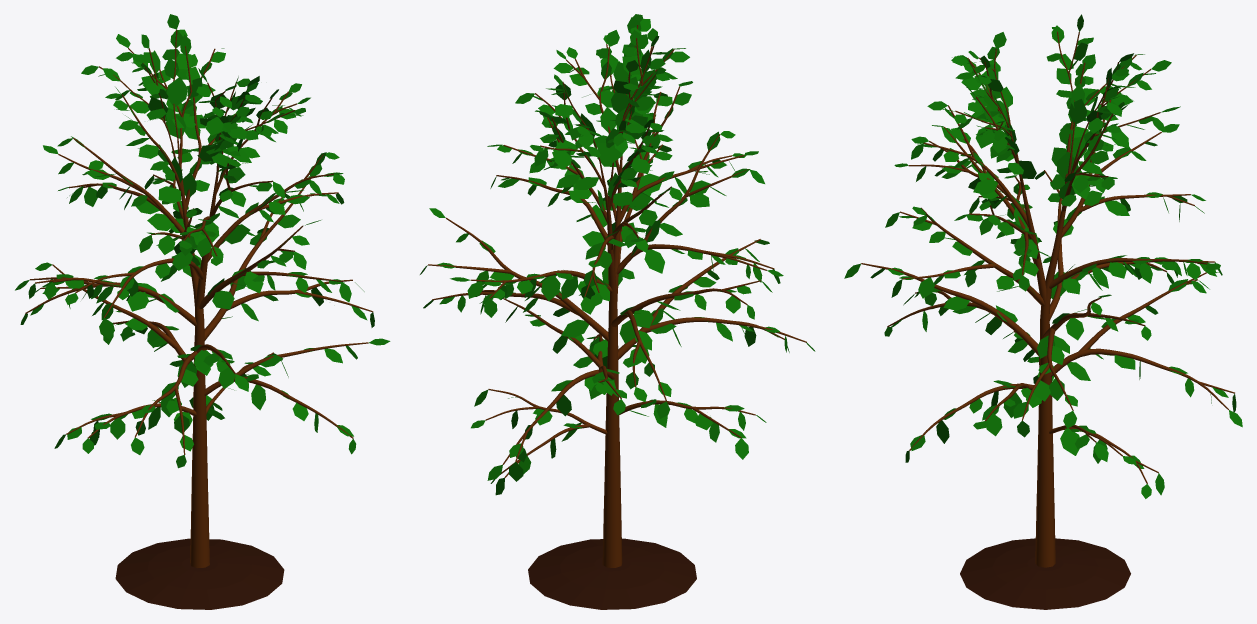
Rendered from Stage3.glb.
The picture shows the model from 3 angles, left to right: view 1: azimuth 30°, elevation 25°; view 2: azimuth 150°, elevation 25°; view 3: azimuth 270°, elevation 25°; orthographic projection.
Visible parts, largest first — view 1: leaves.004, tree.001, Cone; view 2: leaves.004, tree.001, Cone; view 3: leaves.004, tree.001, Cone.
Part boxes in pixels (x1,y1,x2,y2): leaves.004: [15, 14, 390, 468]; tree.001: [25, 29, 373, 567]; Cone: [115, 538, 284, 609]; leaves.004: [420, 14, 815, 495]; tree.001: [428, 25, 806, 567]; Cone: [528, 538, 696, 609]; leaves.004: [844, 14, 1242, 498]; tree.001: [861, 31, 1234, 567]; Cone: [960, 538, 1130, 609].
Size of the model in its own units: 1.16 by 1.8 by 1.2.
